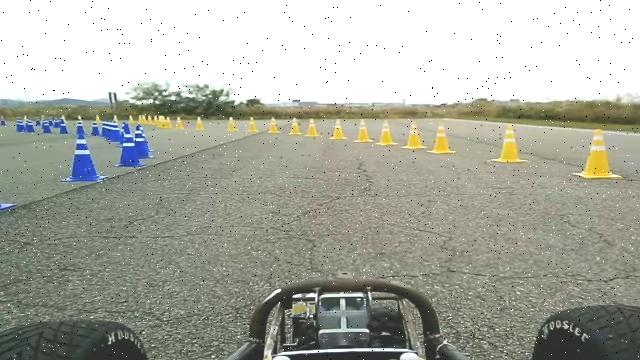blue cone: (57, 123, 108, 183), (115, 123, 146, 168), (0, 165, 16, 214)
yellow cone: (572, 128, 623, 179), (487, 124, 529, 164), (426, 122, 456, 154), (401, 120, 427, 149), (375, 119, 397, 146), (352, 119, 373, 142), (329, 118, 348, 139), (304, 118, 319, 137), (267, 116, 281, 134), (288, 117, 301, 135), (224, 116, 237, 131), (248, 116, 258, 132)
